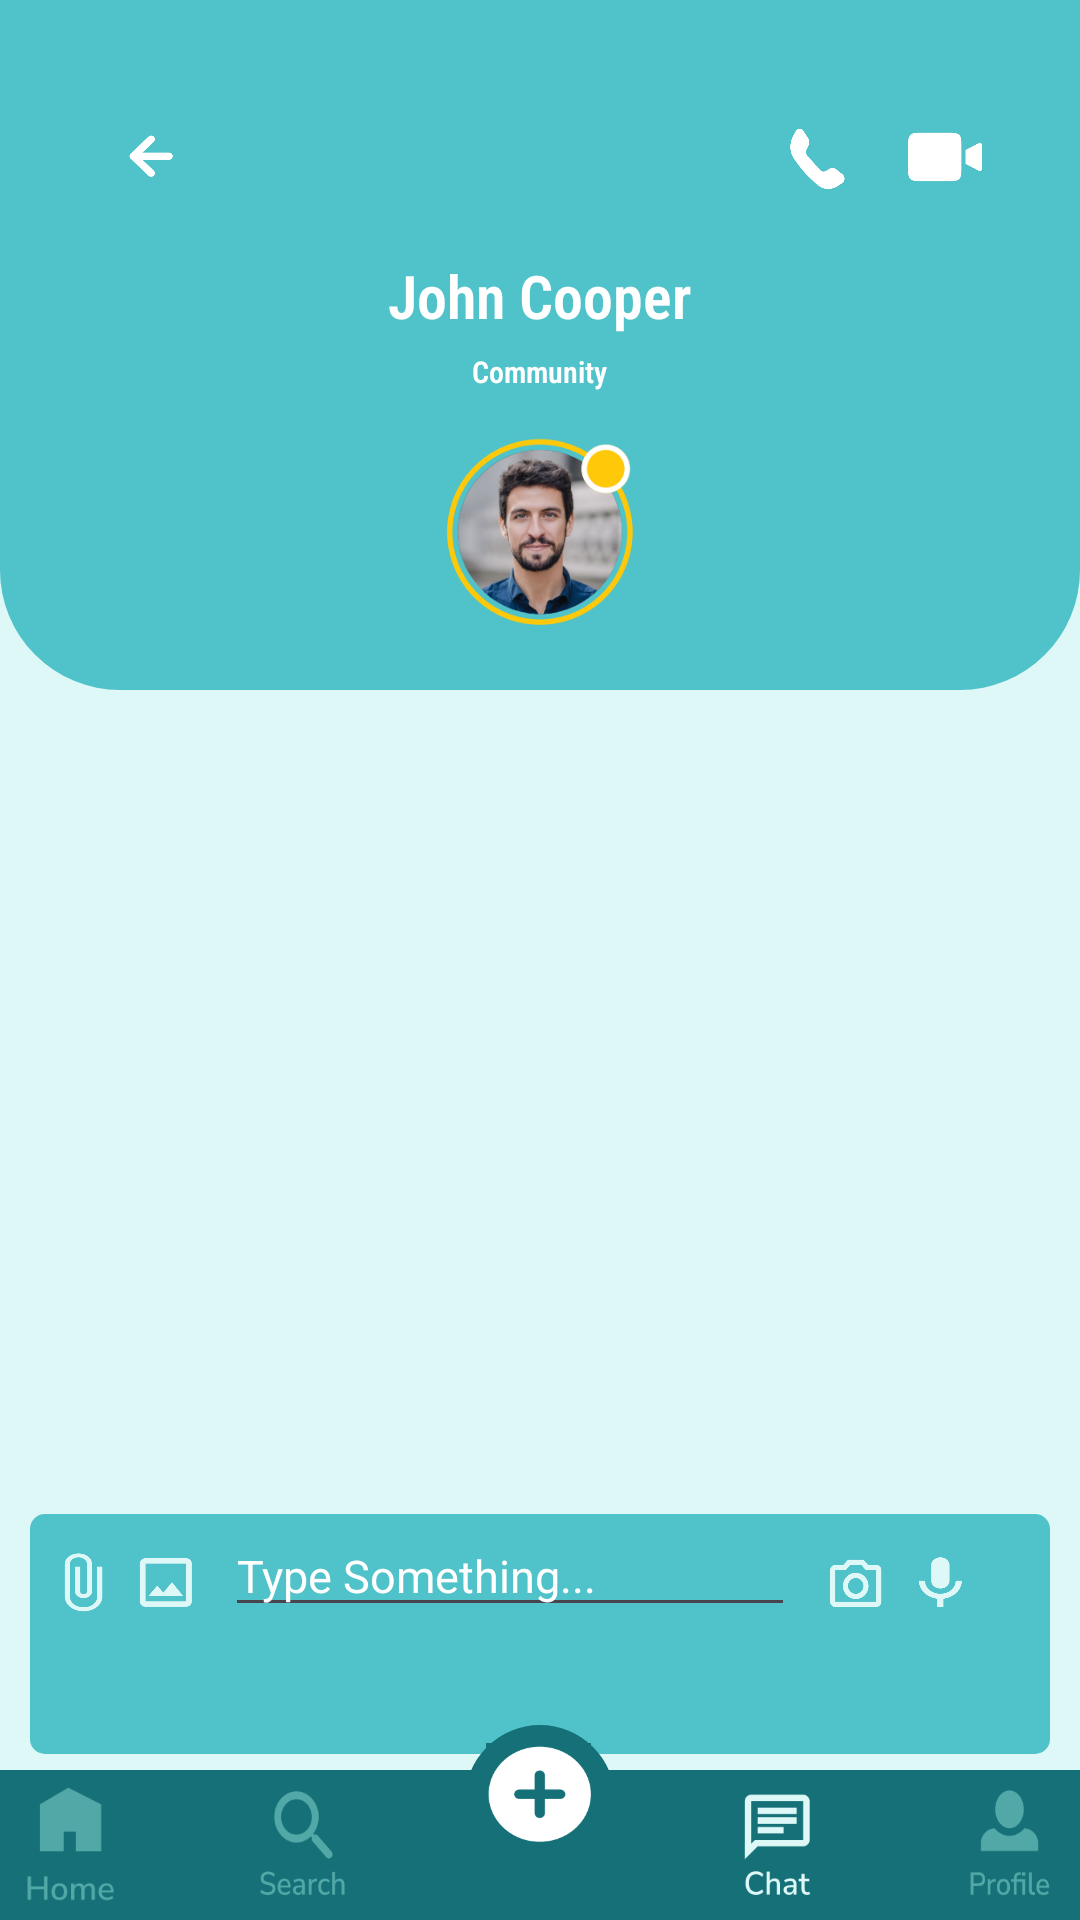

Locate icon controls on the screen. Image size 1080*1920, boxes as (x1, y1, x2, y2).
add file: (65, 1553, 103, 1611)
add photo: (140, 1558, 192, 1607)
addmentor: (488, 1746, 591, 1842)
back arrow: (129, 135, 173, 177)
camera: (830, 1560, 882, 1607)
phone: (790, 129, 845, 189)
video: (908, 132, 982, 181)
voice recorder: (919, 1557, 962, 1607)
